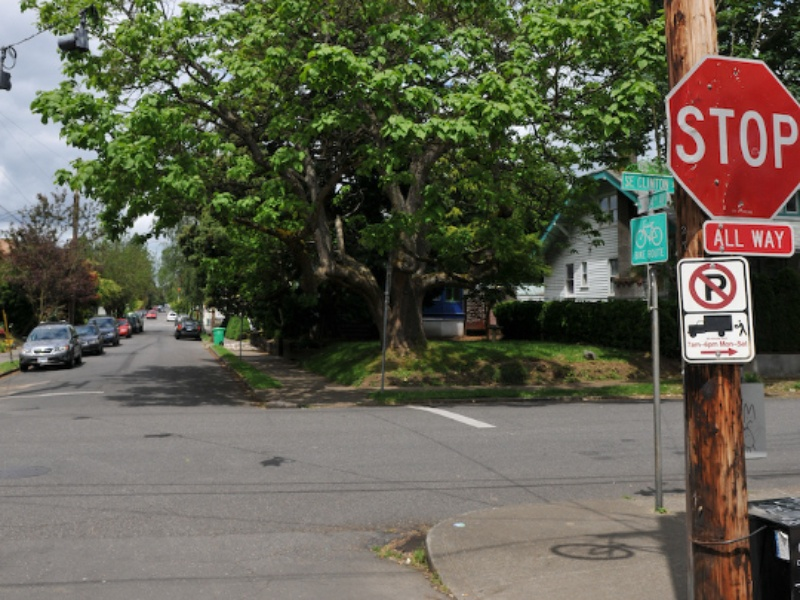stop sign: (660, 53, 800, 222)
